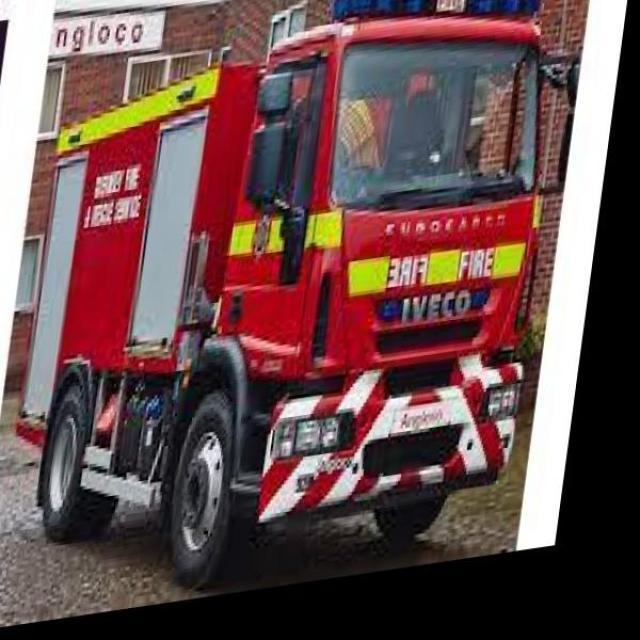emergency: (14, 0, 562, 590)
